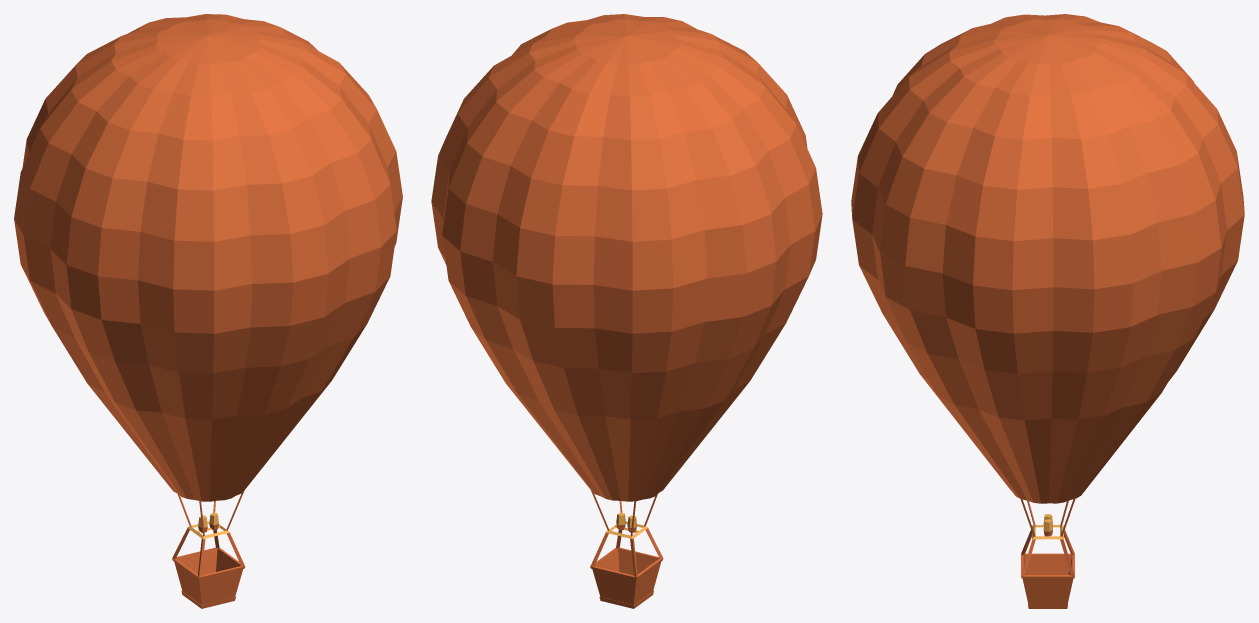
Rendered from balloon-compressed.glb.
The picture shows the model from 3 angles, left to right: view 1: azimuth 30°, elevation 25°; view 2: azimuth 150°, elevation 25°; view 3: azimuth 270°, elevation 25°; orthographic projection.
Visible parts, largest first — view 1: balloon; view 2: balloon; view 3: balloon.
Part boxes in pixels (<box>): balloon: <box>14,14,402,608</box>; balloon: <box>431,14,822,608</box>; balloon: <box>851,14,1244,608</box>.
Bounding box in the file's own units: 3.42 × 5.5 × 3.47.
